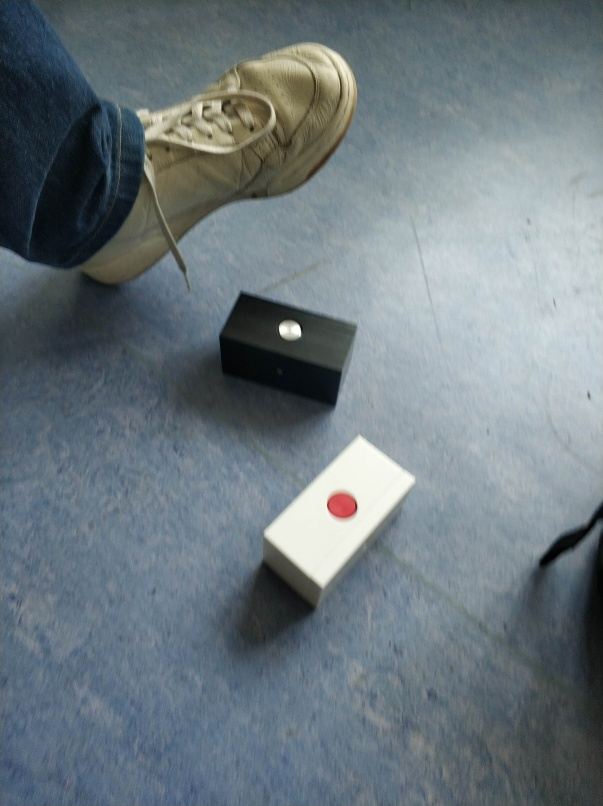black+black+silver: (213, 284, 363, 415)
white+white+red: (258, 433, 415, 615)
